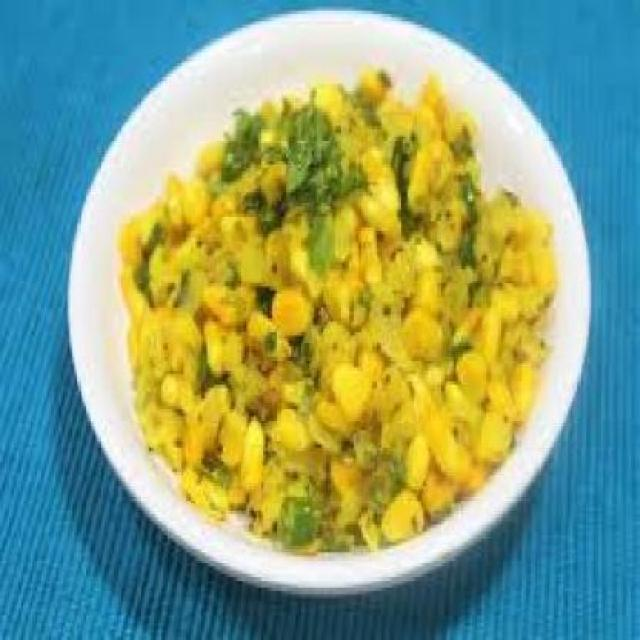poha: (119, 69, 558, 557)
